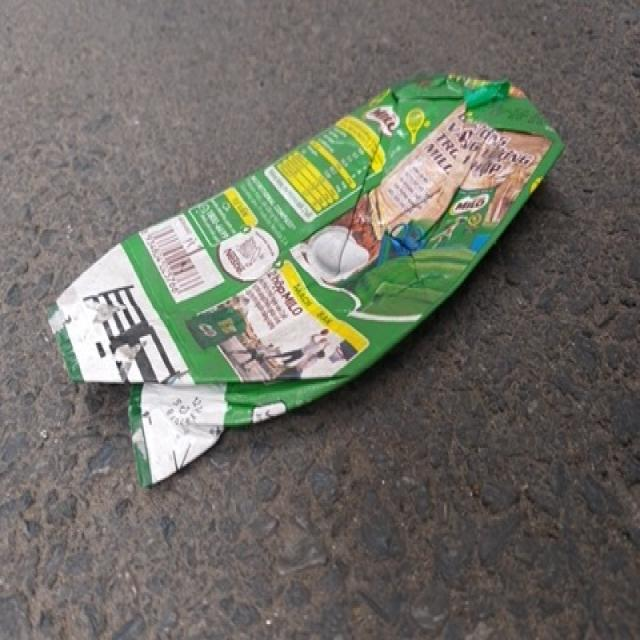PaperCardboard: (53, 74, 583, 483)
